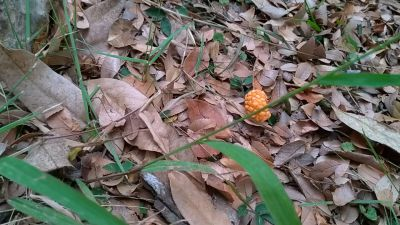eggs: (241, 87, 274, 125)
